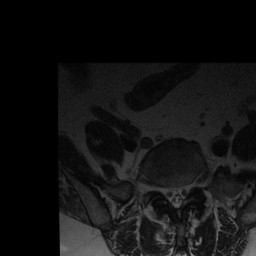CCS_normal: (172, 180, 179, 212)
LFS_stenosis: (187, 175, 194, 195)
LLS_normal: (180, 181, 186, 207)
RFS_stenosis: (155, 179, 163, 197)
RLS_normal: (163, 180, 172, 207)
